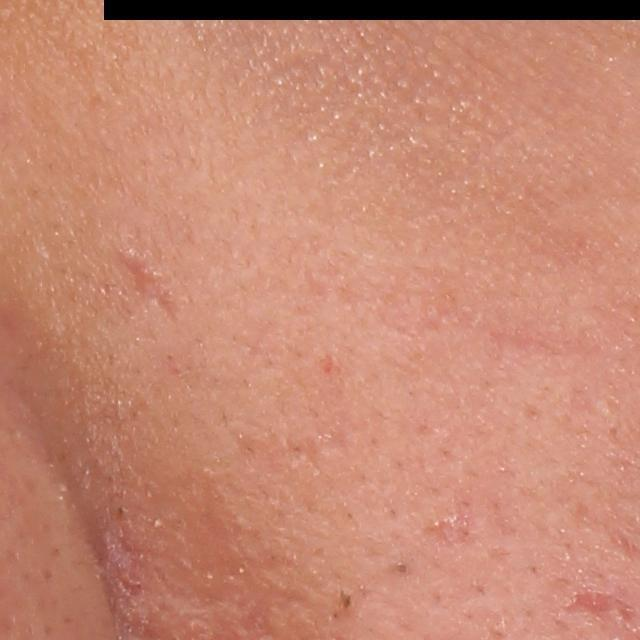atrophic_scar: (115, 243, 181, 330), (559, 588, 637, 626)
comedo: (389, 558, 412, 581)
